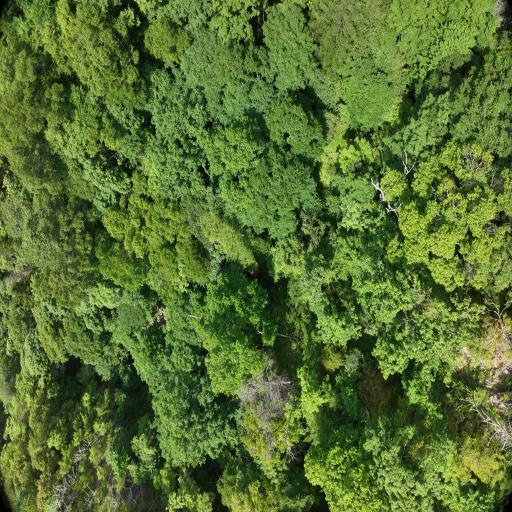dead-tree: (236, 360, 300, 427), (471, 397, 511, 451)
